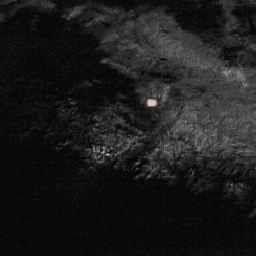Target: (145, 97, 158, 108)
